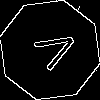V: (25, 25, 81, 77)
